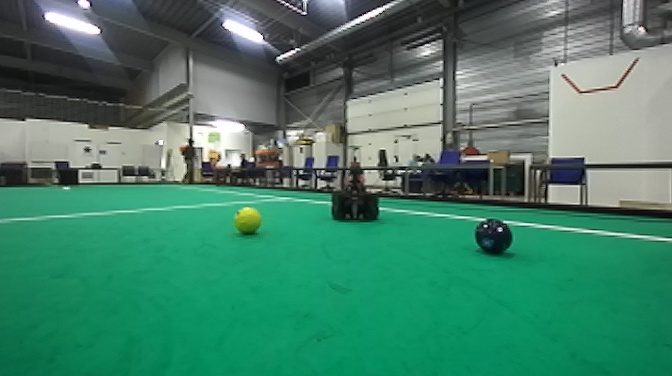ball: (473, 216, 518, 259), (231, 203, 265, 239)
robot: (328, 141, 383, 226)
